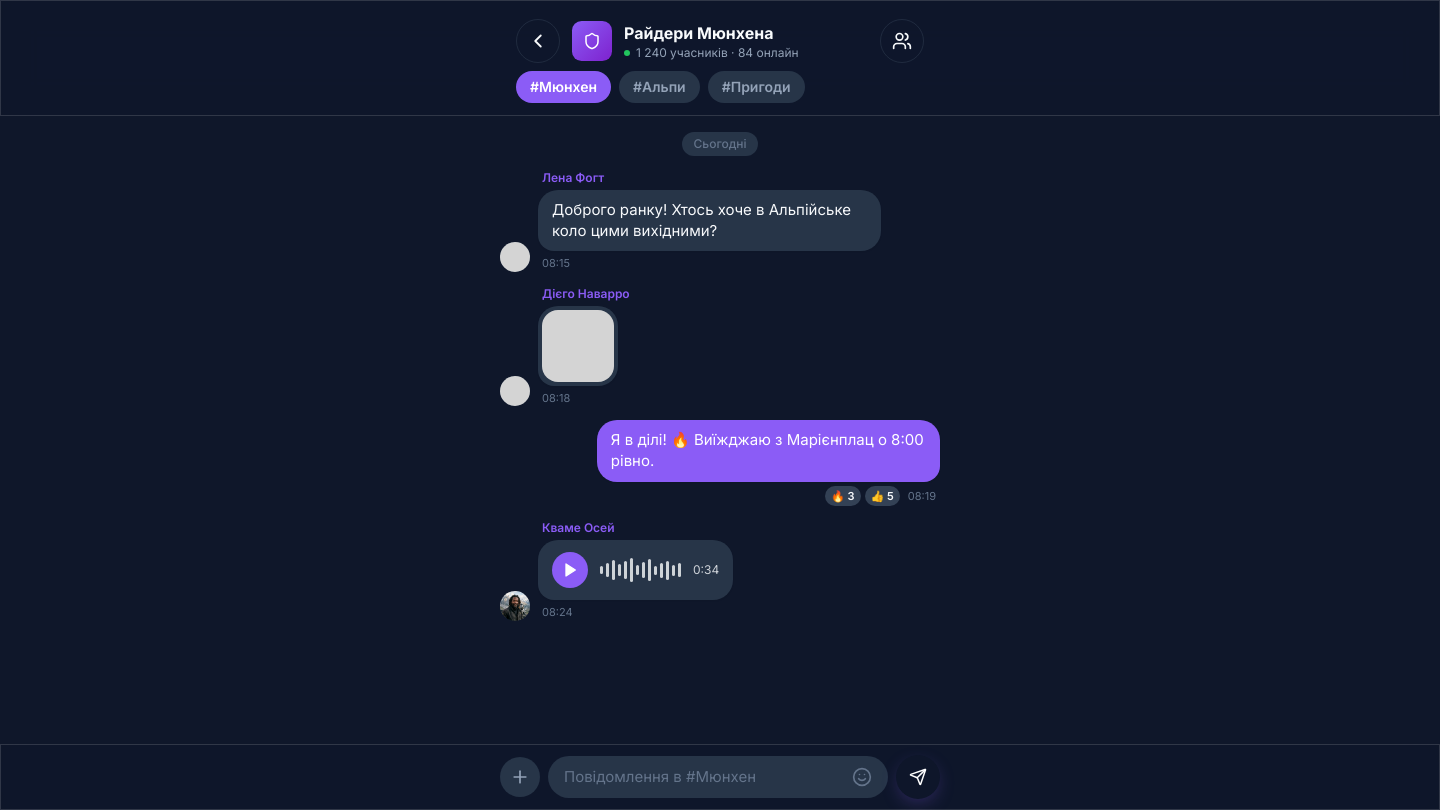
Test: CommunityChatScreen › renders the channel and sends a message
expect the heading "Райдери Мюнхена" is shown: met, box [624,23,774,43]
Type "Привіт, Альпи!" into the field labelled "Повідомлення" at (704, 777), box [564,766,844,788]
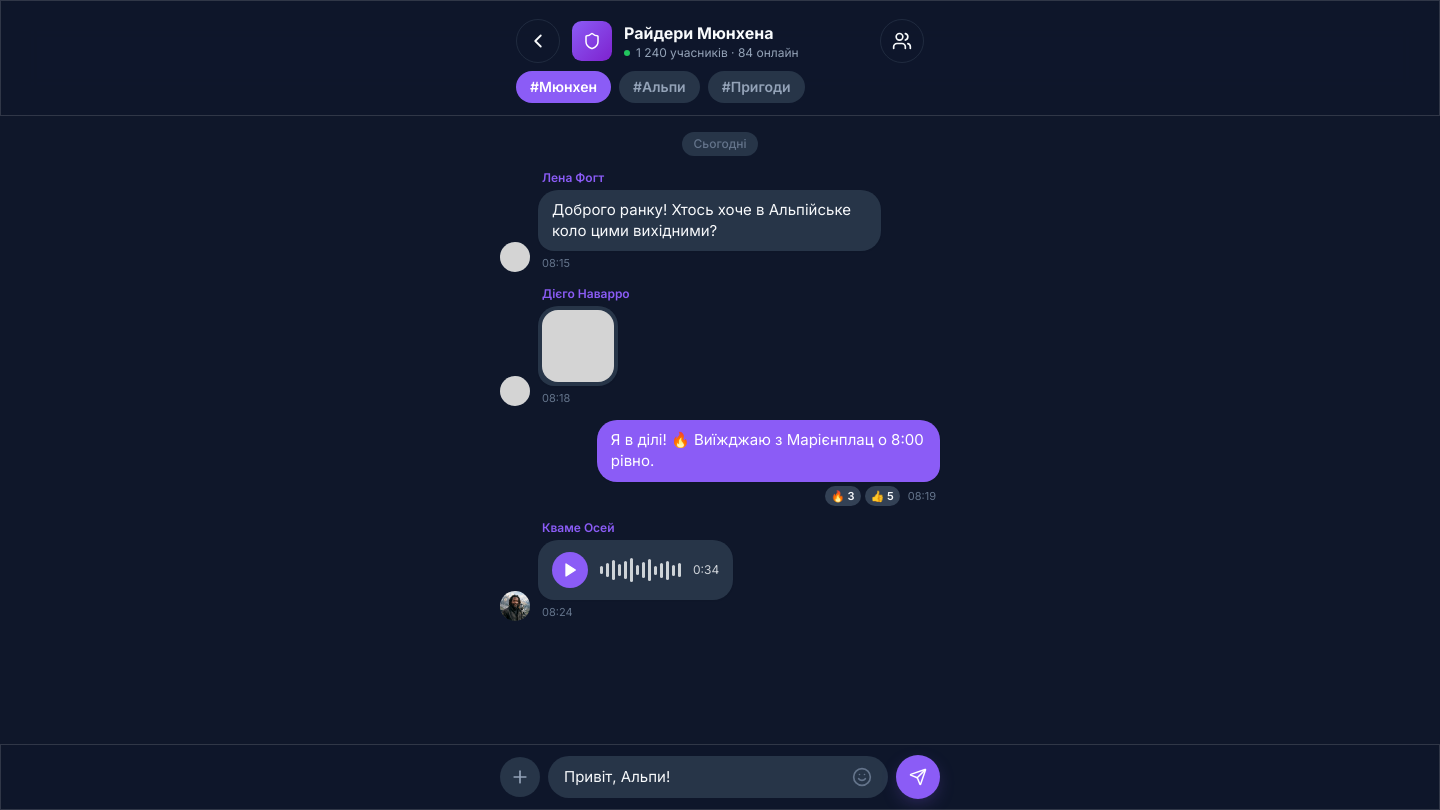
Click the button named "Надіслати повідомлення" at (918, 777), box [896,755,940,799]
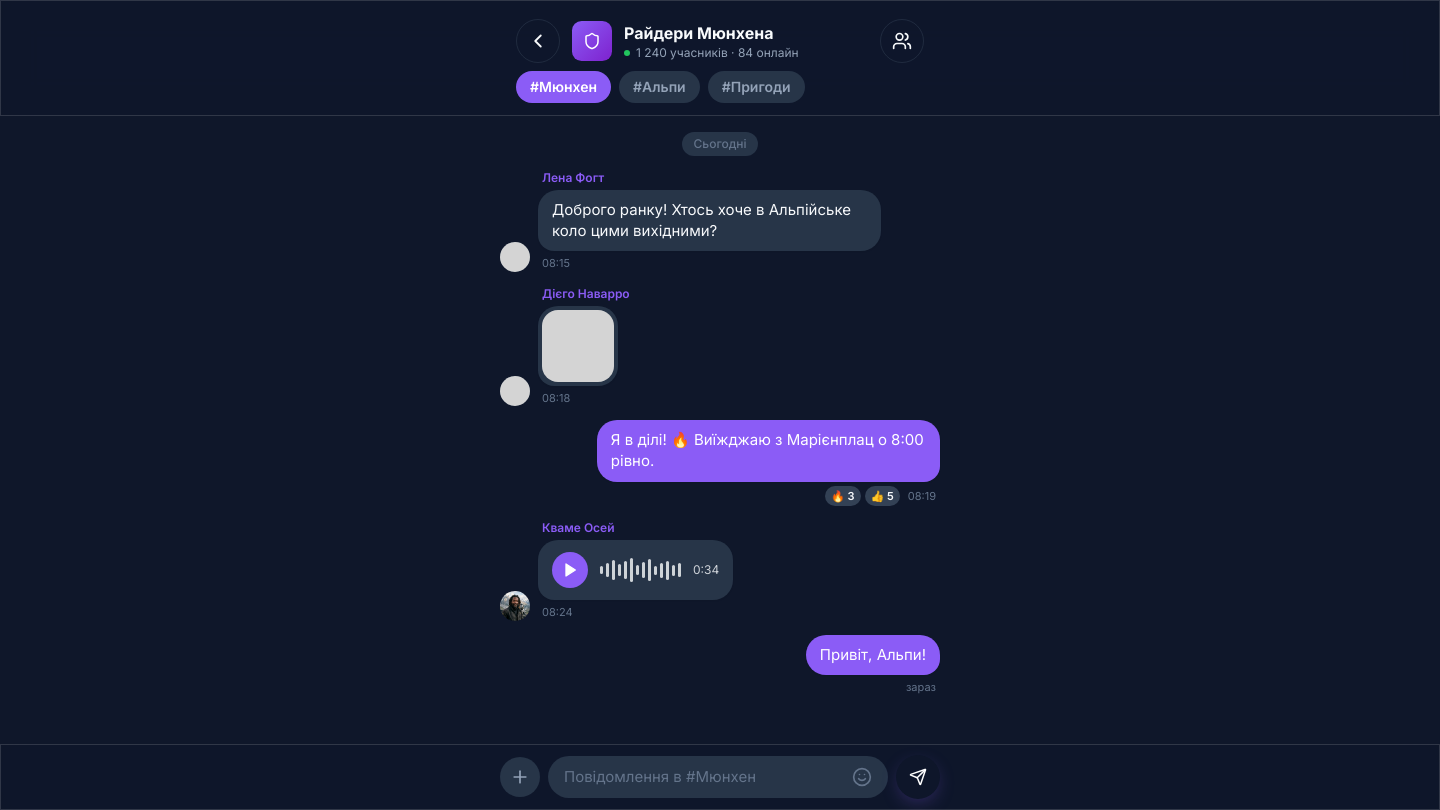
expect the text "Привіт, Альпи!" is shown: met, box [820,644,926,665]
